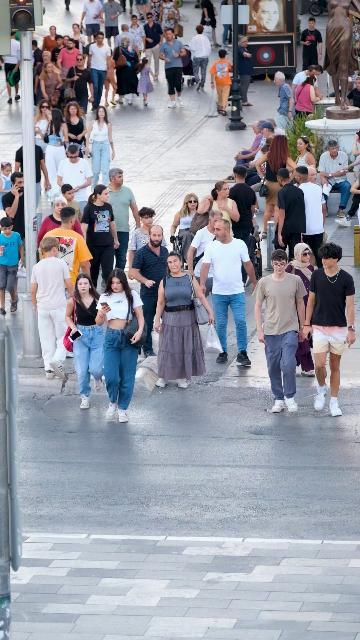person: (300, 242, 356, 418), (252, 248, 309, 413), (199, 220, 258, 369), (153, 251, 214, 389), (96, 267, 146, 423), (30, 237, 75, 380), (64, 273, 107, 409), (130, 226, 171, 356), (38, 207, 94, 294), (284, 242, 318, 378), (255, 134, 297, 242), (80, 184, 121, 289), (100, 167, 141, 272), (292, 165, 328, 270), (187, 209, 225, 301), (274, 167, 308, 264), (35, 108, 68, 206), (2, 171, 46, 244), (125, 206, 166, 281), (317, 139, 353, 216), (85, 105, 116, 193), (227, 165, 258, 250), (36, 196, 85, 249), (57, 145, 94, 213), (0, 217, 25, 315), (196, 180, 241, 234), (159, 29, 188, 109), (64, 54, 94, 121), (227, 142, 271, 187), (88, 31, 112, 112), (113, 37, 140, 107), (209, 50, 233, 117), (34, 50, 61, 109), (248, 121, 275, 180), (35, 99, 59, 165), (61, 101, 88, 159), (234, 121, 265, 170), (189, 24, 211, 93), (143, 12, 164, 81), (170, 193, 200, 241), (4, 30, 23, 104), (273, 72, 296, 131), (299, 17, 323, 71), (100, 0, 123, 55), (291, 64, 324, 101), (80, 0, 104, 50), (294, 75, 321, 119), (238, 36, 254, 108), (197, 0, 221, 48), (137, 57, 159, 107), (39, 61, 63, 106), (57, 38, 84, 78), (31, 40, 46, 106), (59, 184, 84, 222), (293, 135, 317, 174), (103, 46, 118, 108), (160, 0, 181, 41), (127, 15, 146, 60), (220, 0, 233, 48), (69, 23, 87, 57), (345, 76, 360, 110), (41, 25, 58, 55), (114, 23, 132, 51), (0, 162, 16, 192), (148, 0, 164, 27), (51, 34, 64, 67), (133, 0, 151, 23), (265, 118, 285, 136), (306, 167, 318, 184), (120, 0, 132, 14)
